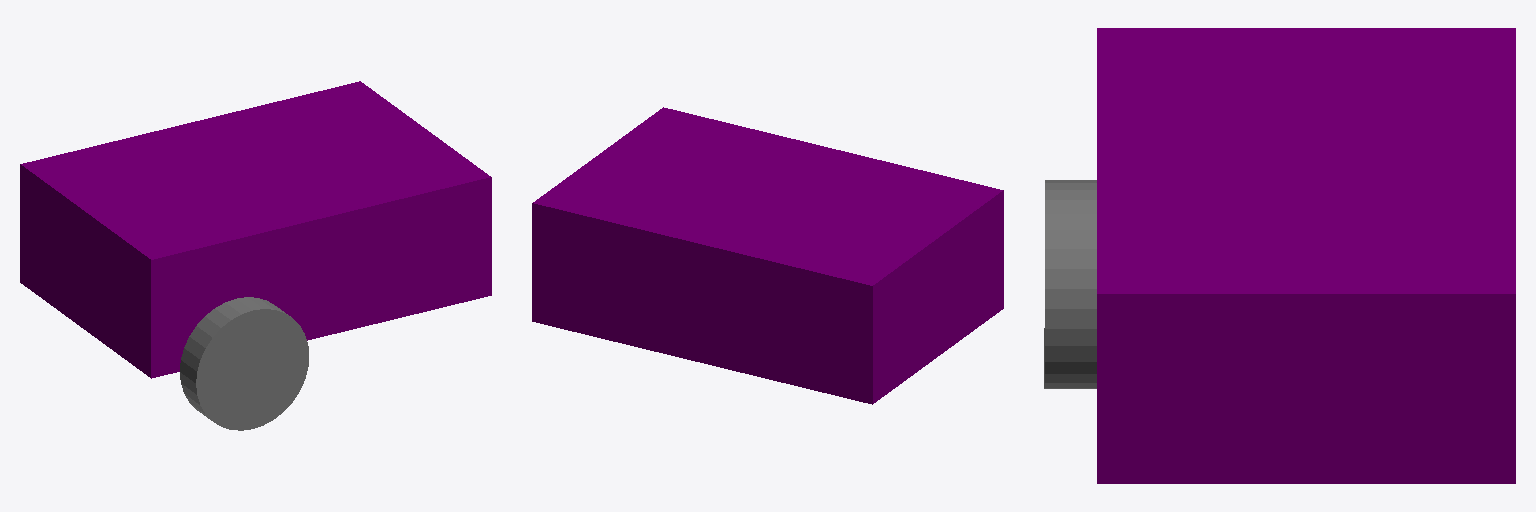
robot.urdf — diff_summer_robot:
<?xml version="1.0" encoding="UTF-8"?>
<robot name="diff_summer_robot">
    <material name="purple">
        <color rgba="0.5 0.0 0.5 1.0"/>
    </material>
    <material name="green">
        <color rgba="0.0 0.5 0.0 1.0"/>
    </material>
    <material name="grey">
        <color rgba="0.5 0.5 0.5 1.0"/>
    </material>

    <link name="base_link">
        <visual>
            <geometry>
                <box size="0.6 0.4 0.2"/>
            </geometry>
            <origin xyz="0.0 0.0 0.1" rpy="0.0 0.0 0.0"/>
            <material name="purple"/>    
        </visual>
    </link>

    <link name="right_wheel_link">
        <visual>
            <geometry>
                <cylinder radius="0.1" length="0.05"/>
            </geometry>
            <origin xyz="0.0 0.0 0.0" rpy="1.57 0.0 0.0"/>
            <material name="grey"/>
        </visual>
    </link>

    <joint name="base_right_wheel_joint" type="continuous">
        <parent link="base_link"/>
        <child link="right_wheel_link"/>
        <origin xyz="-0.15 -0.225 0.0" rpy="0.0 0.0 0.0"/>
        <axis xyz="0 1 0"/>
    </joint>

    
    <!-- <link name="second_link">
        <visual>
            <geometry>
                <cylinder radius="0.1" length="0.1"/>
            </geometry>
            <origin xyz="0.0 0.0 0.05" rpy="0.0 0.0 0.0"/>
            <material name="grey"/>
        </visual>
    </link>

    <link name="third_link">
        <visual>
            <geometry>
                <box size="0.1 0.1 0.1"/>
            </geometry>
            <origin xyz="0.0 0.0 0.05" rpy="0.0 0.0 0.0"/>
            <material name="green"/>
        </visual>
    </link> -->

    <!-- <joint name="base_second_joint" type="continuous">
        <parent link="base_link"/>
        <child link="second_link"/>
        <origin xyz="0.0 0.0 0.2" rpy="0.0 0.0 0.0"/>
        <axis xyz="0 0 1"/>
    </joint>

    <joint name="second_third_joint" type="prismatic">
        <parent link="second_link"/>
        <child link="third_link"/>
        <origin xyz="0.0 0.0 0.1" rpy="0.0 0.0 0.0"/>
        <limit lower="0.0" upper="0.2" effort="10.0" velocity="0.05"/>
        <axis xyz="1 0 0"/>
    </joint> -->

</robot>

--- Render facts (derived) ---
Views: 3 orthographic renders of the robot side by side, from view 1: azimuth 30°, elevation 25°; view 2: azimuth 150°, elevation 25°; view 3: azimuth 270°, elevation 25°.
Robot: diff_summer_robot — 2 links, 1 joints (1 continuous); root link base_link; default pose: every joint at zero.
Links seen in each view (by area): view 1: base_link, right_wheel_link; view 2: base_link; view 3: base_link, right_wheel_link.
Link boxes in pixels (left/top/right/bottom): base_link: left=20, top=81, right=491, bottom=378; right_wheel_link: left=180, top=297, right=308, bottom=430; base_link: left=532, top=107, right=1003, bottom=404; base_link: left=1097, top=28, right=1515, bottom=483; right_wheel_link: left=1044, top=180, right=1096, bottom=388.
Size in the robot's own frame: 0.6 by 0.4501 by 0.3 metres.
Geometry: primitives only (box / cylinder / sphere), no mesh files.